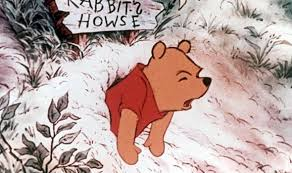Winnie: (127, 42, 211, 124)
